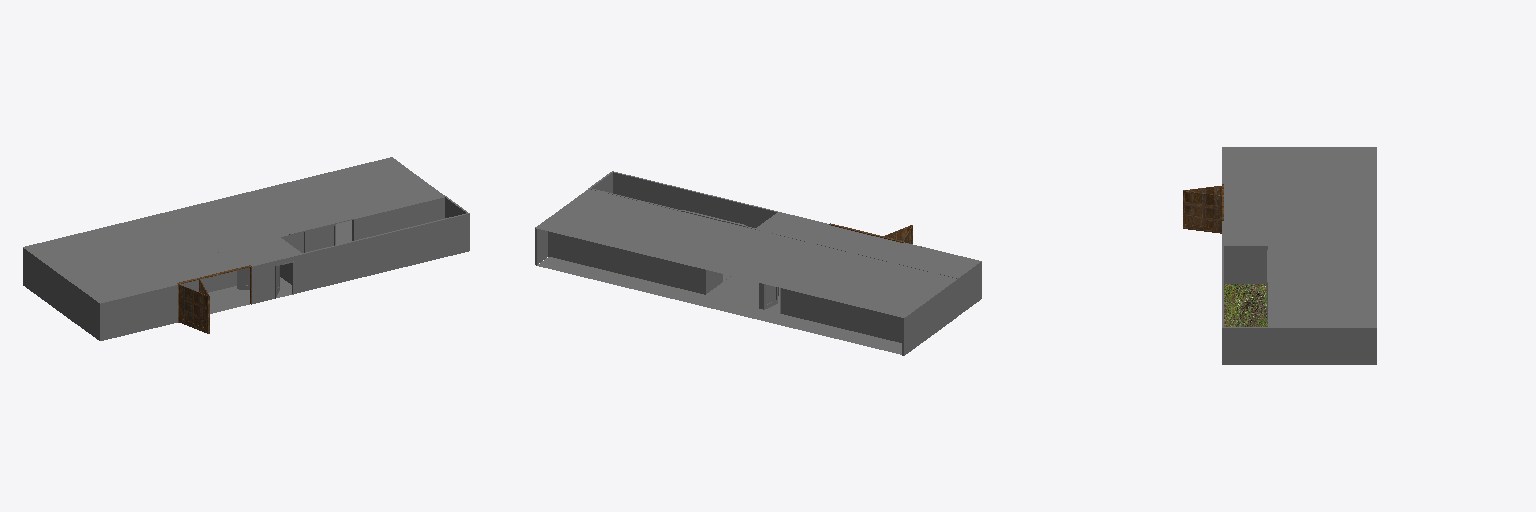
3 views of the same model, side by side, from view 1: azimuth 30°, elevation 25°; view 2: azimuth 150°, elevation 25°; view 3: azimuth 270°, elevation 25° (orthographic).
Visible parts, largest first — view 1: Plane012, patio, estaciona, Plane008, Wall007, BiFoldDoor001, SlidingDoor001, Plane009, Plane005, paredpuerta; view 2: Plane012, Plane010, Wall007, Wall006, patio, Plane008, estaciona, Plane009, Wall008; view 3: Plane012, patio, Plane008, Wall006, Plane007, BiFoldDoor001, Wall009, Plane009.
Boxes of the visible parts, <box> form: Plane012: <box>24,157,443,285</box>; patio: <box>280,196,469,291</box>; estaciona: <box>76,246,267,340</box>; Plane008: <box>79,246,264,301</box>; Wall007: <box>35,256,75,323</box>; BiFoldDoor001: <box>177,265,251,333</box>; SlidingDoor001: <box>289,218,354,252</box>; Plane009: <box>243,237,301,262</box>; Plane005: <box>208,286,249,313</box>; paredpuerta: <box>268,255,301,299</box>; Plane012: <box>536,189,955,317</box>; Plane010: <box>537,257,901,354</box>; Wall007: <box>759,279,957,346</box>; Wall006: <box>548,190,730,294</box>; patio: <box>588,171,777,234</box>; Plane008: <box>793,221,978,276</box>; estaciona: <box>791,221,981,315</box>; Plane009: <box>756,212,814,237</box>; Wall008: <box>902,309,915,355</box>; Plane012: <box>1270,148,1376,326</box>; patio: <box>1222,246,1269,364</box>; Plane008: <box>1224,148,1267,227</box>; Wall006: <box>1270,327,1352,364</box>; Plane007: <box>1224,284,1267,326</box>; BiFoldDoor001: <box>1183,184,1223,233</box>; Wall009: <box>1353,327,1376,364</box>; Plane009: <box>1222,229,1269,245</box>.
Size of the model in its own units: 1025 by 103 by 466.
Materials: 7 (2 with a texture image).